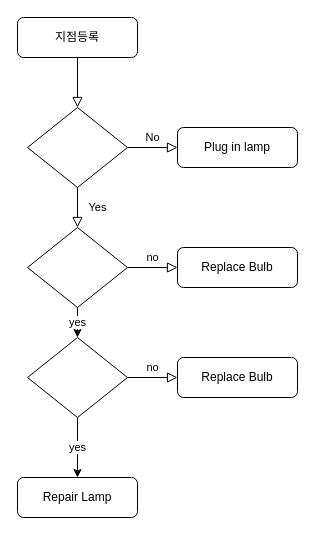
Image size: 315x535. Some labels were removed from this diagram. Each missing label, with the centre of its shape:
기등록된 지점인가: the point at 77,147
시스템 담당자의 승인: the point at 77,377
필요 서류 구비 완료 여부 (ex. 사업자등록증 사본): the point at 77,267
